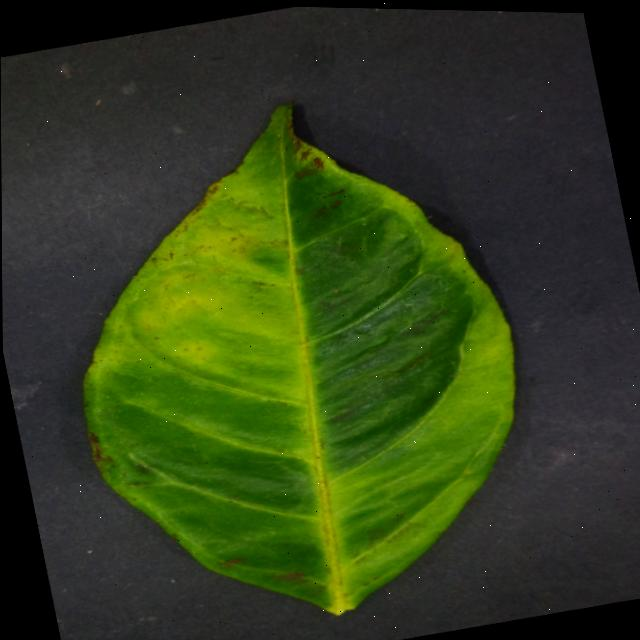greening: (84, 104, 514, 613)
